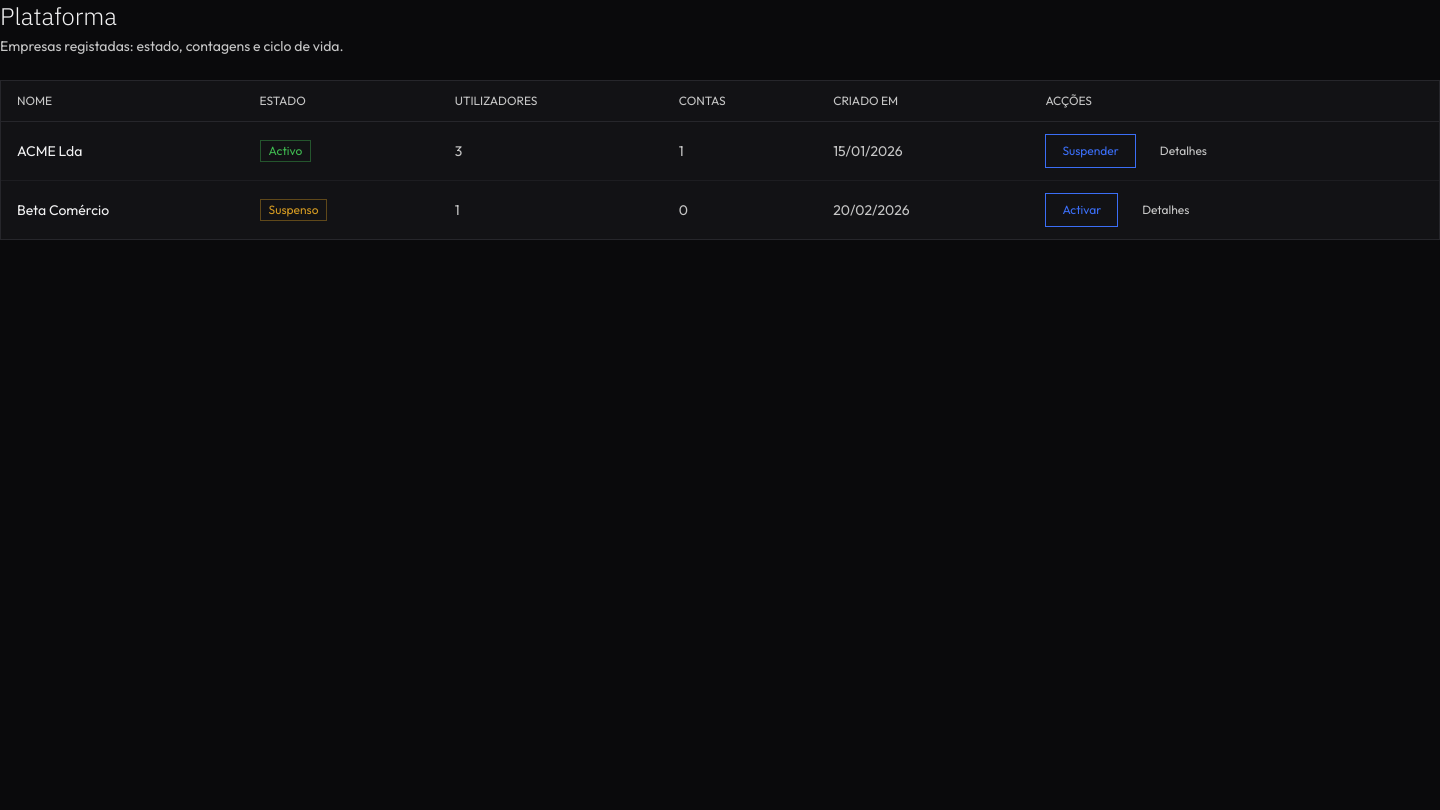
Test: PlatformPage › suspender: modal confirma, POST 204, toast e linha passa a Suspenso
Expected: the text "ACME Lda" is shown, x1=1 y1=122 x2=244 y2=180
Click the button with aria-label "Suspender ACME Lda".
click(1091, 151)  # box x1=1045 y1=134 x2=1136 y2=168
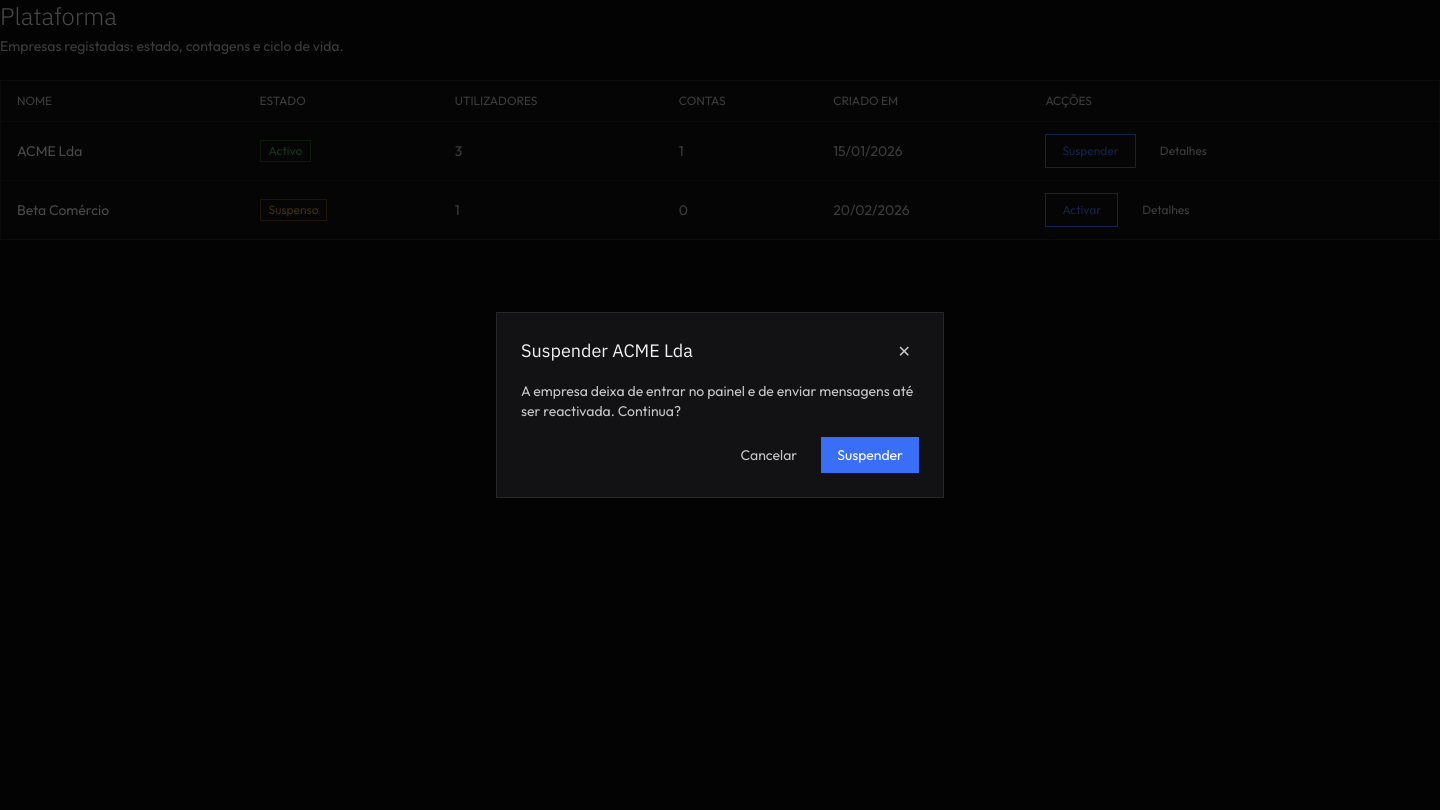
Click the button "Suspender".
click(870, 455)  # box x1=821 y1=437 x2=919 y2=473
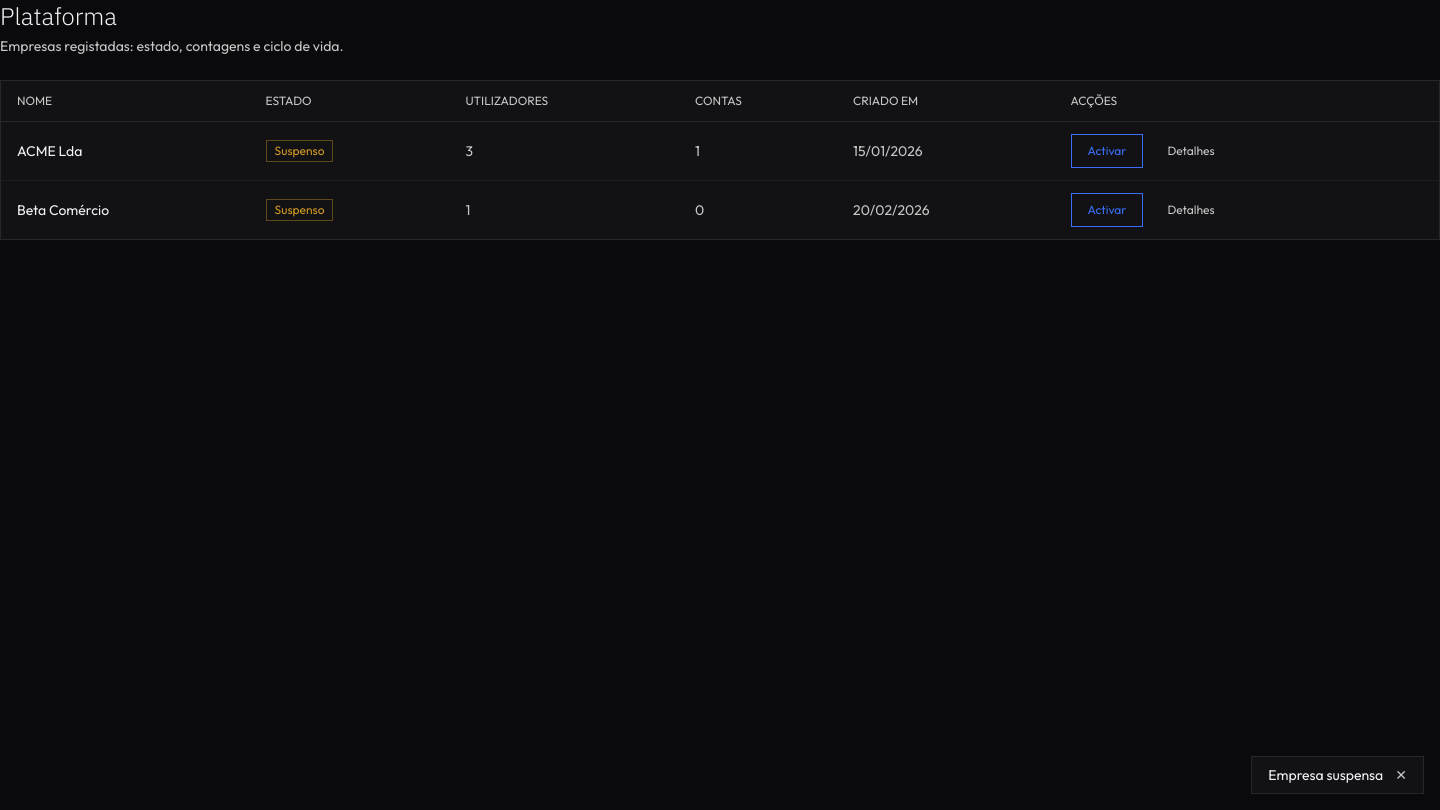
Expected: the text "Empresa suspensa" is shown, x1=1268 y1=765 x2=1383 y2=785
Expected: the text "Suspenso" in the row of "ACME Lda" is shown, x1=274 y1=143 x2=324 y2=158
